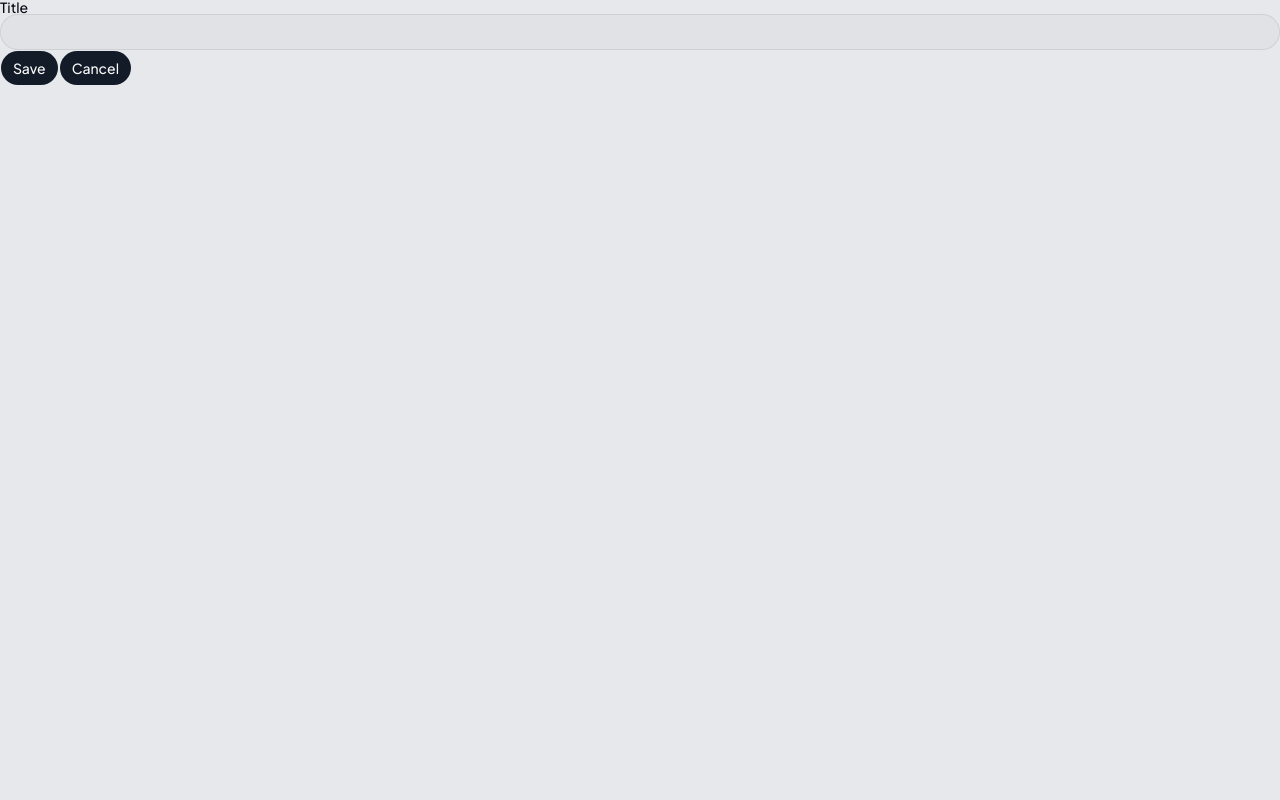
Test: protects changed drafts on cancel and restores editing when discard is declined
Later steps or results of the test are not shown.
Type "Unsaved draft" into the field labelled "Title" at (640, 32), box [0,14,1279,50]
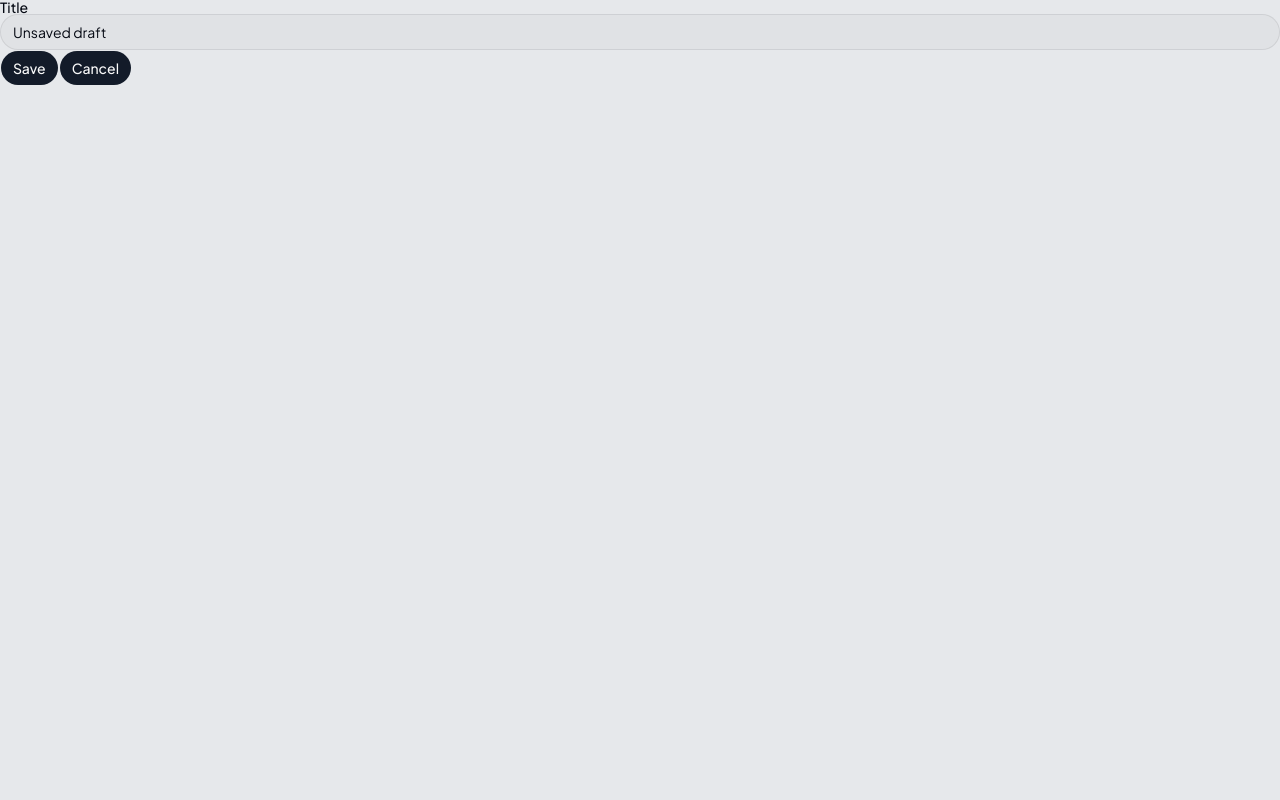
Click the button "Cancel" at (95, 68), box [59,50,132,86]
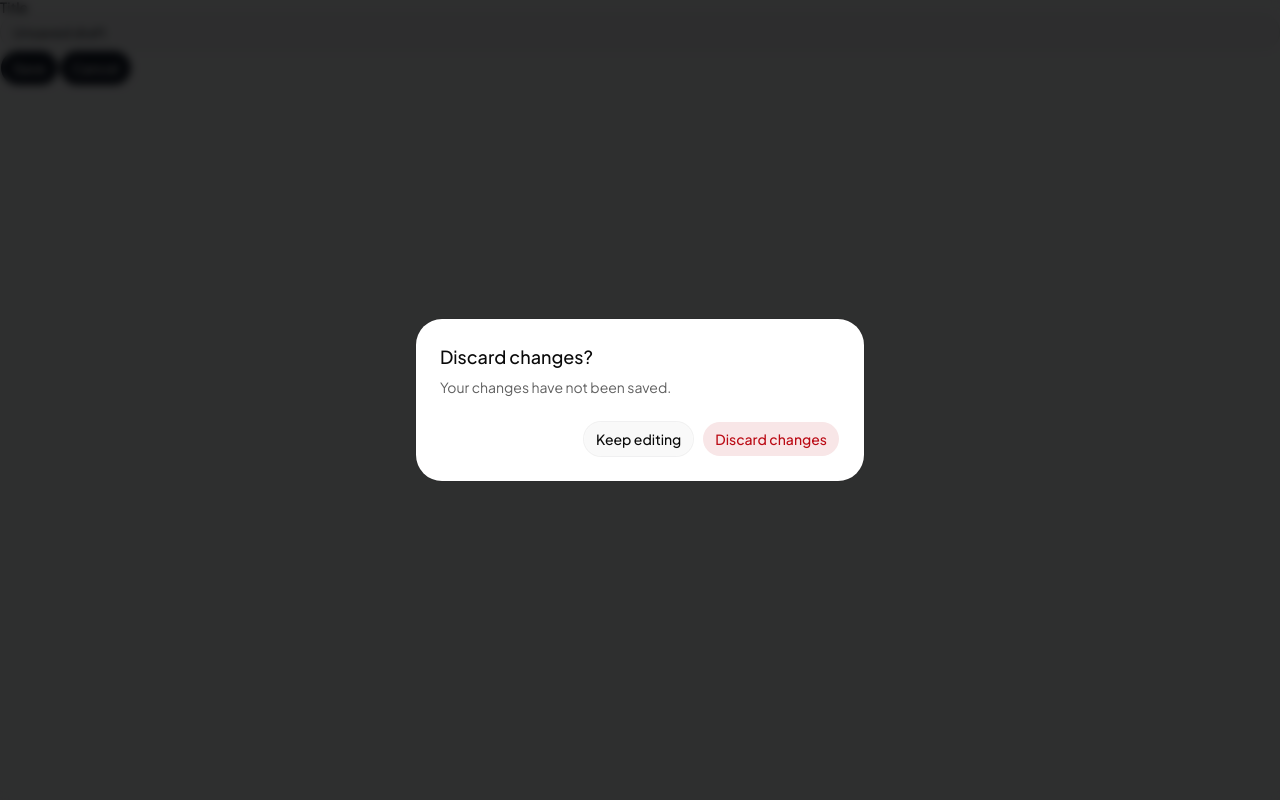
Expected: the dialog "Discard changes?" is shown, [416,319,864,481]
